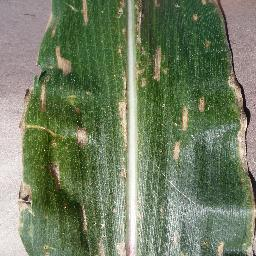Gray_Leaf_Spot: (116, 0, 144, 177), (228, 64, 256, 158), (16, 67, 52, 132), (242, 140, 256, 256), (12, 179, 42, 229), (43, 127, 64, 188), (51, 44, 75, 78), (37, 11, 61, 45), (150, 41, 166, 84), (74, 205, 92, 237), (77, 0, 96, 27), (73, 124, 90, 152), (108, 240, 137, 256), (93, 236, 116, 256), (178, 104, 192, 135), (66, 92, 84, 116), (37, 244, 60, 256), (204, 0, 228, 11), (170, 140, 181, 161), (196, 93, 208, 112), (215, 240, 227, 256), (149, 0, 167, 9), (190, 9, 200, 23), (206, 37, 210, 54)
